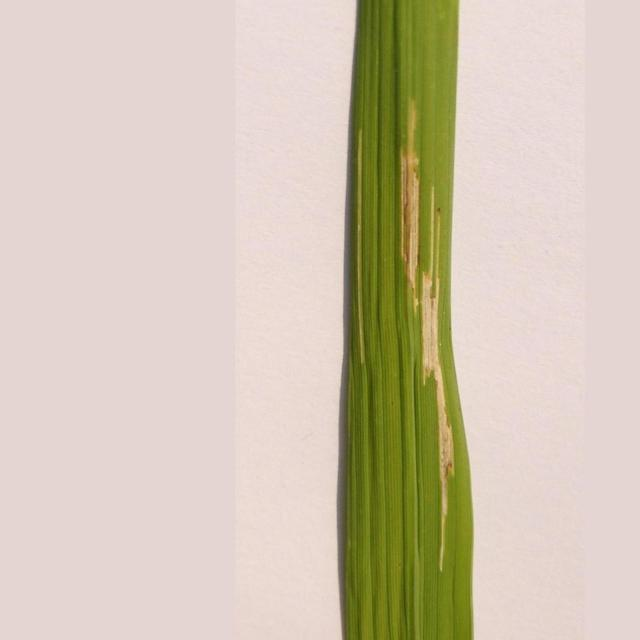Bacterial leaf blight: (400, 85, 460, 580), (350, 122, 376, 396)
